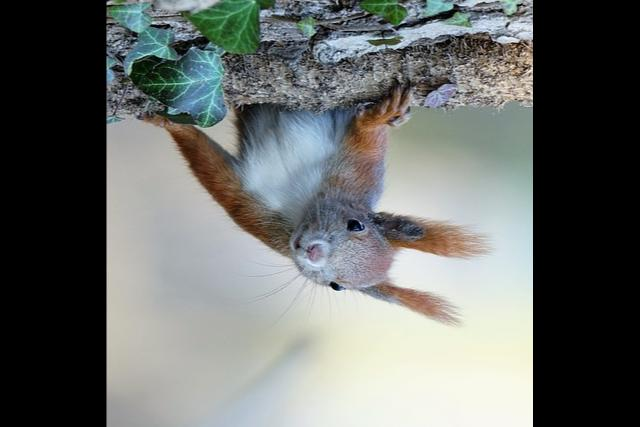Non_Gorille: (162, 74, 483, 328)
